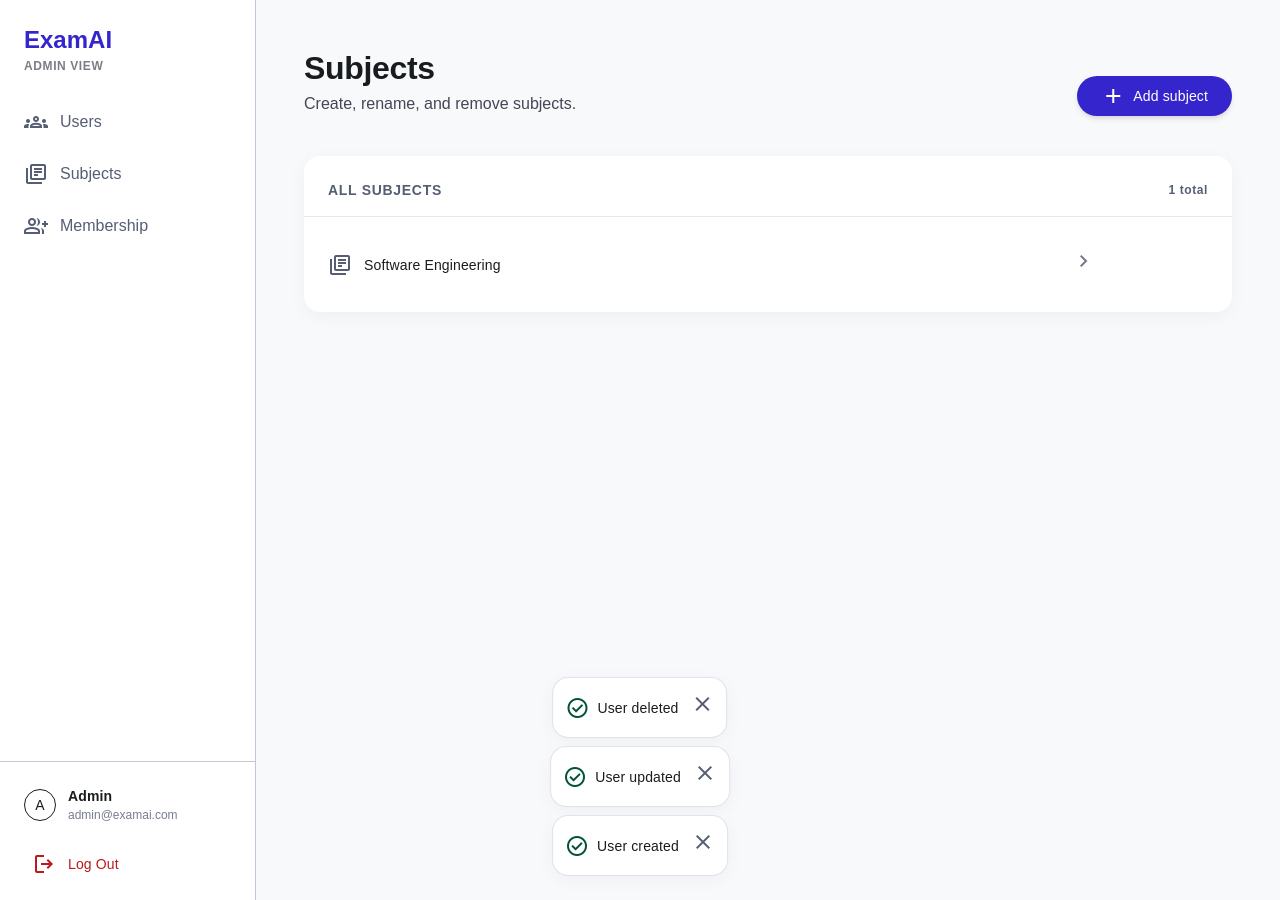
Test case: AdminSubjects › renders subjects and adds one through the dialog
The image size is (1280, 900).
Check: the text "Software Engineering" is shown, box top-left (364, 256), bottom-right (501, 272)
Step 1. Click the button "Add subject" → (1155, 96), box top-left (1077, 76), bottom-right (1232, 116)
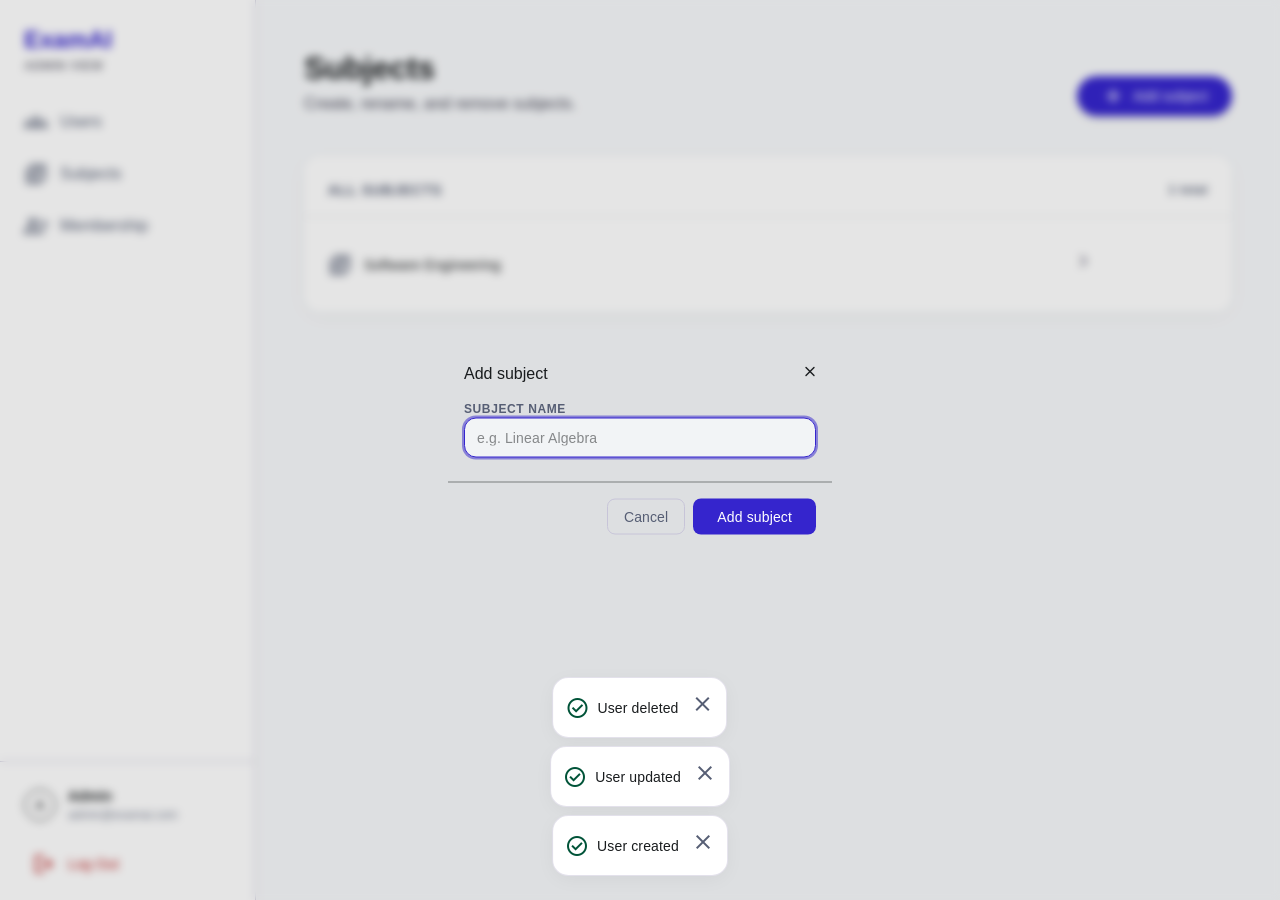
Step 2. Type "Linear Algebra" into the field labelled "Subject name" → (640, 438), box top-left (464, 418), bottom-right (816, 458)
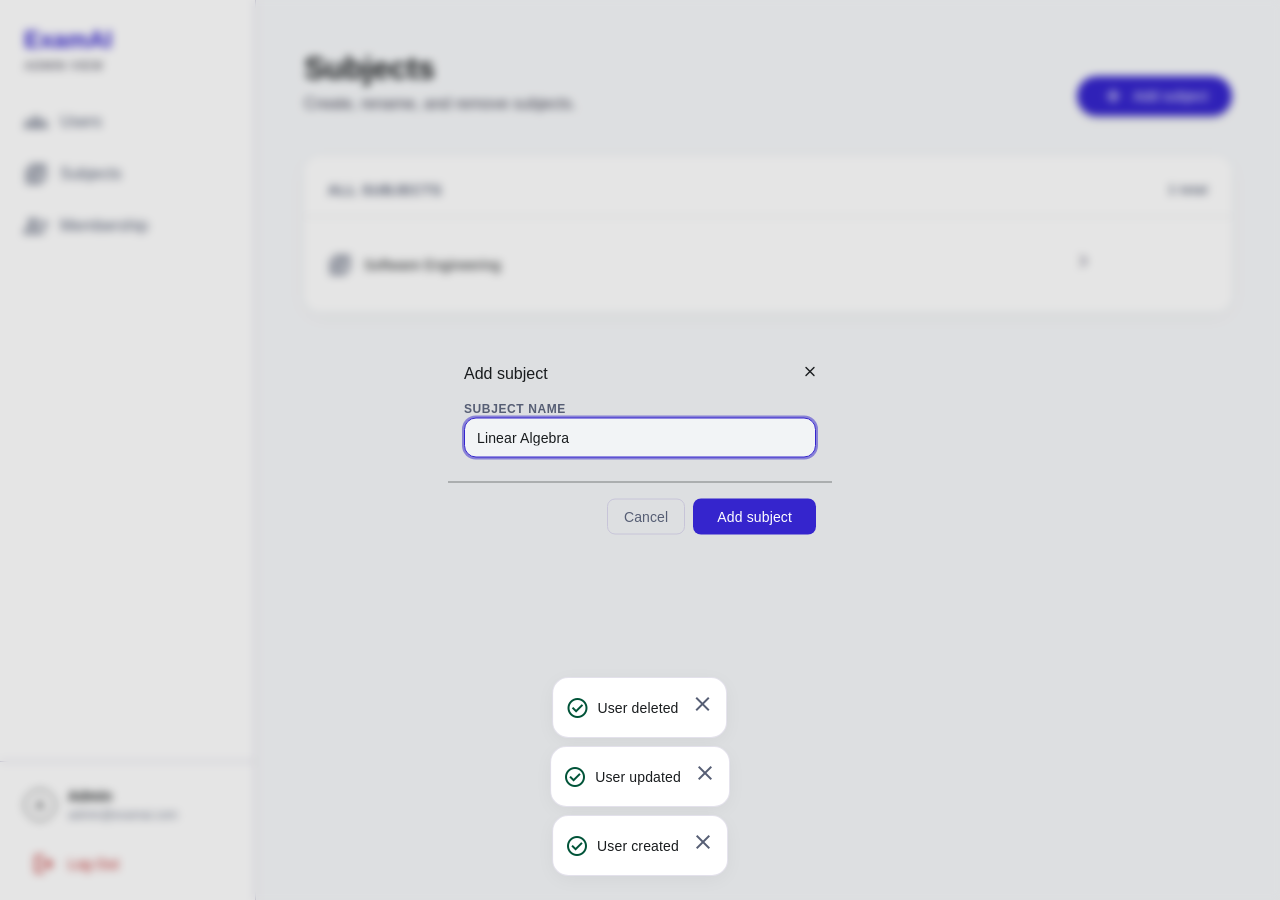
Step 3. Click the button "Add subject" → (755, 516), box top-left (693, 498), bottom-right (816, 534)
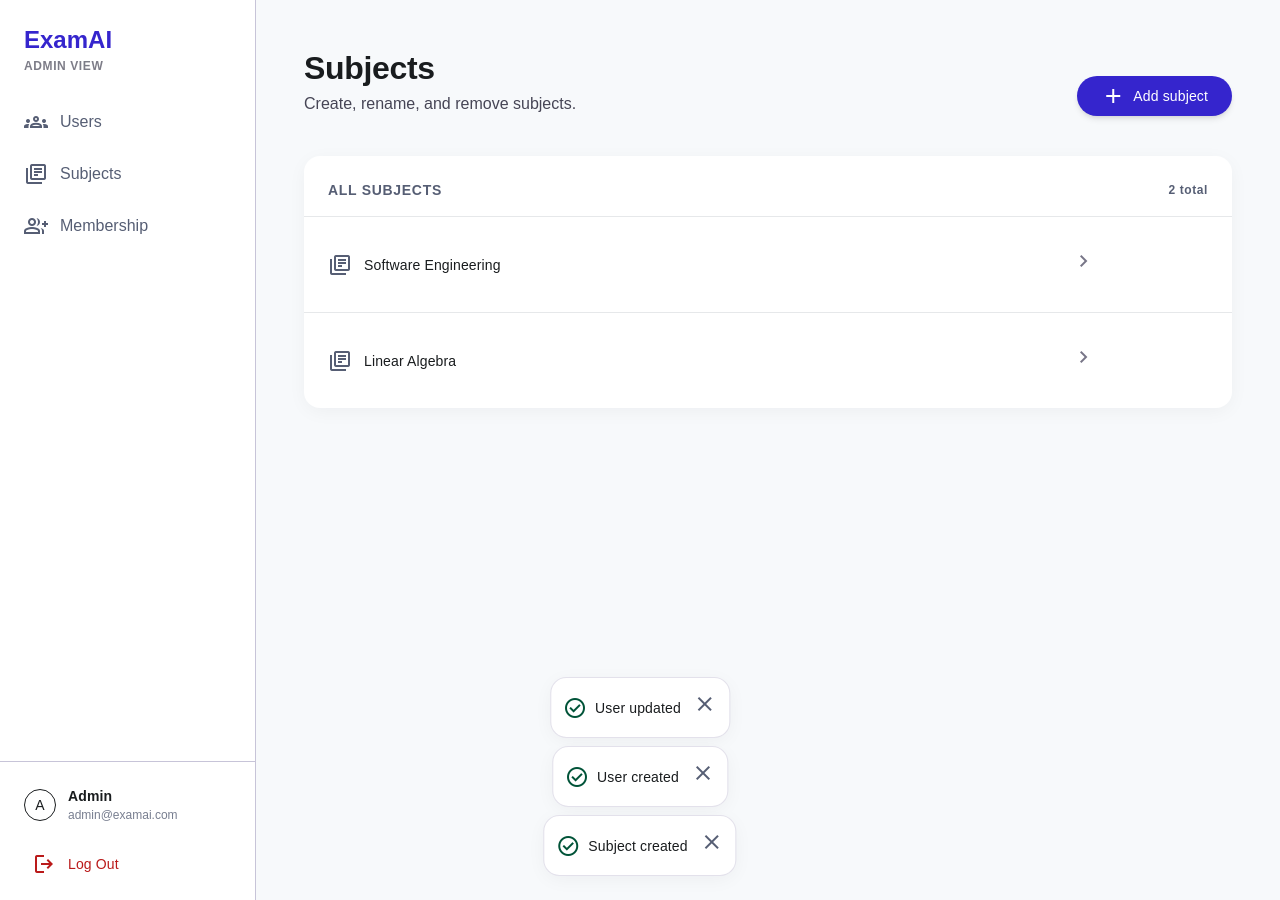
Check: the text "Linear Algebra" is shown, box top-left (364, 352), bottom-right (456, 368)
